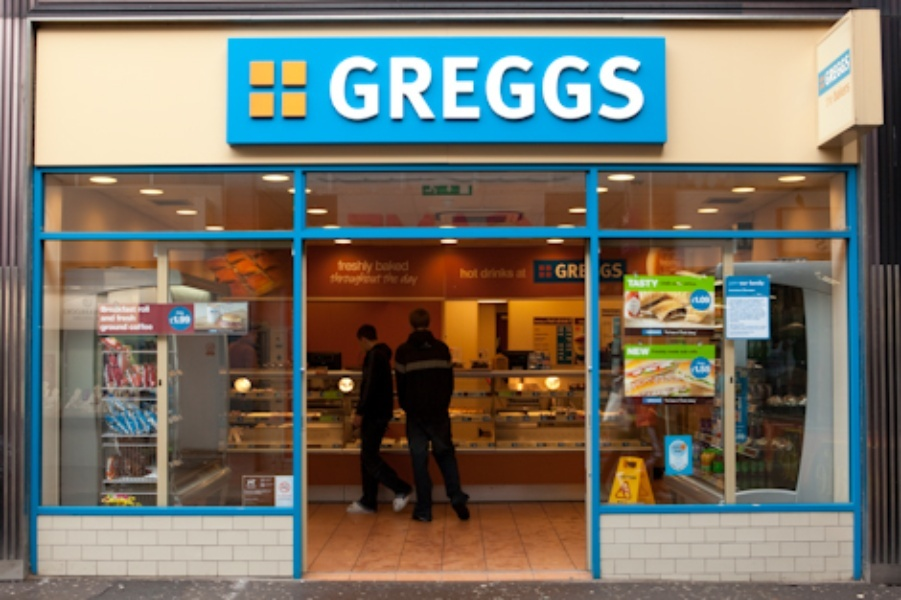text: (337, 54, 352, 123), (353, 54, 368, 123), (369, 54, 384, 123), (385, 54, 400, 123), (401, 54, 416, 123), (417, 54, 432, 123), (433, 54, 448, 123), (449, 54, 464, 123), (465, 54, 480, 123), (481, 54, 496, 123), (497, 54, 512, 123), (513, 54, 528, 123), (529, 54, 544, 123), (545, 54, 560, 123), (561, 54, 576, 123), (577, 54, 592, 123), (593, 54, 608, 123), (609, 54, 624, 123), (625, 54, 640, 123), (328, 54, 336, 123), (833, 52, 848, 87), (833, 81, 848, 102), (823, 52, 832, 87), (641, 54, 645, 123), (337, 257, 352, 275), (353, 257, 368, 275), (609, 261, 624, 278), (385, 257, 400, 273), (337, 273, 352, 288), (353, 273, 368, 288), (561, 263, 576, 278), (385, 273, 401, 286), (369, 273, 382, 288), (401, 275, 416, 288), (481, 267, 496, 280), (497, 267, 512, 280), (465, 267, 480, 280), (514, 267, 528, 280), (641, 278, 656, 290), (374, 257, 384, 273), (401, 257, 411, 273), (627, 278, 640, 290), (113, 305, 128, 315), (625, 347, 640, 357), (113, 323, 129, 332), (177, 315, 190, 326), (129, 323, 144, 332), (257, 489, 273, 497), (98, 315, 112, 324), (98, 323, 112, 332), (100, 305, 112, 315), (577, 263, 585, 278), (673, 280, 688, 288), (657, 347, 672, 355), (673, 347, 688, 355), (753, 278, 765, 288), (601, 261, 608, 278), (691, 296, 704, 305), (691, 365, 704, 374), (625, 474, 639, 482), (116, 315, 128, 324), (145, 323, 156, 332), (660, 280, 672, 288), (740, 280, 752, 288), (244, 489, 256, 497), (330, 273, 336, 288), (369, 257, 374, 275), (641, 347, 650, 357), (689, 347, 700, 355), (277, 493, 288, 501), (825, 94, 832, 106), (129, 305, 137, 315), (169, 315, 176, 326), (555, 263, 560, 278), (129, 315, 137, 324), (689, 280, 698, 288), (727, 280, 736, 288), (137, 305, 144, 315), (459, 267, 464, 280), (705, 296, 712, 305), (705, 365, 712, 374), (145, 305, 150, 315), (650, 347, 656, 355), (618, 474, 624, 482), (748, 278, 752, 288), (289, 493, 294, 501), (417, 275, 420, 288), (113, 315, 117, 324), (657, 278, 660, 290), (849, 52, 850, 87), (382, 273, 384, 286), (737, 280, 740, 288), (513, 267, 514, 280)
